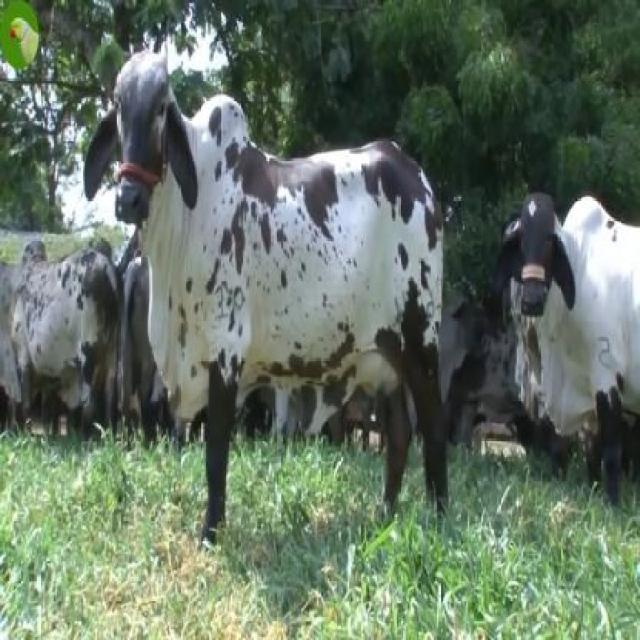Cow: (85, 52, 446, 546)
